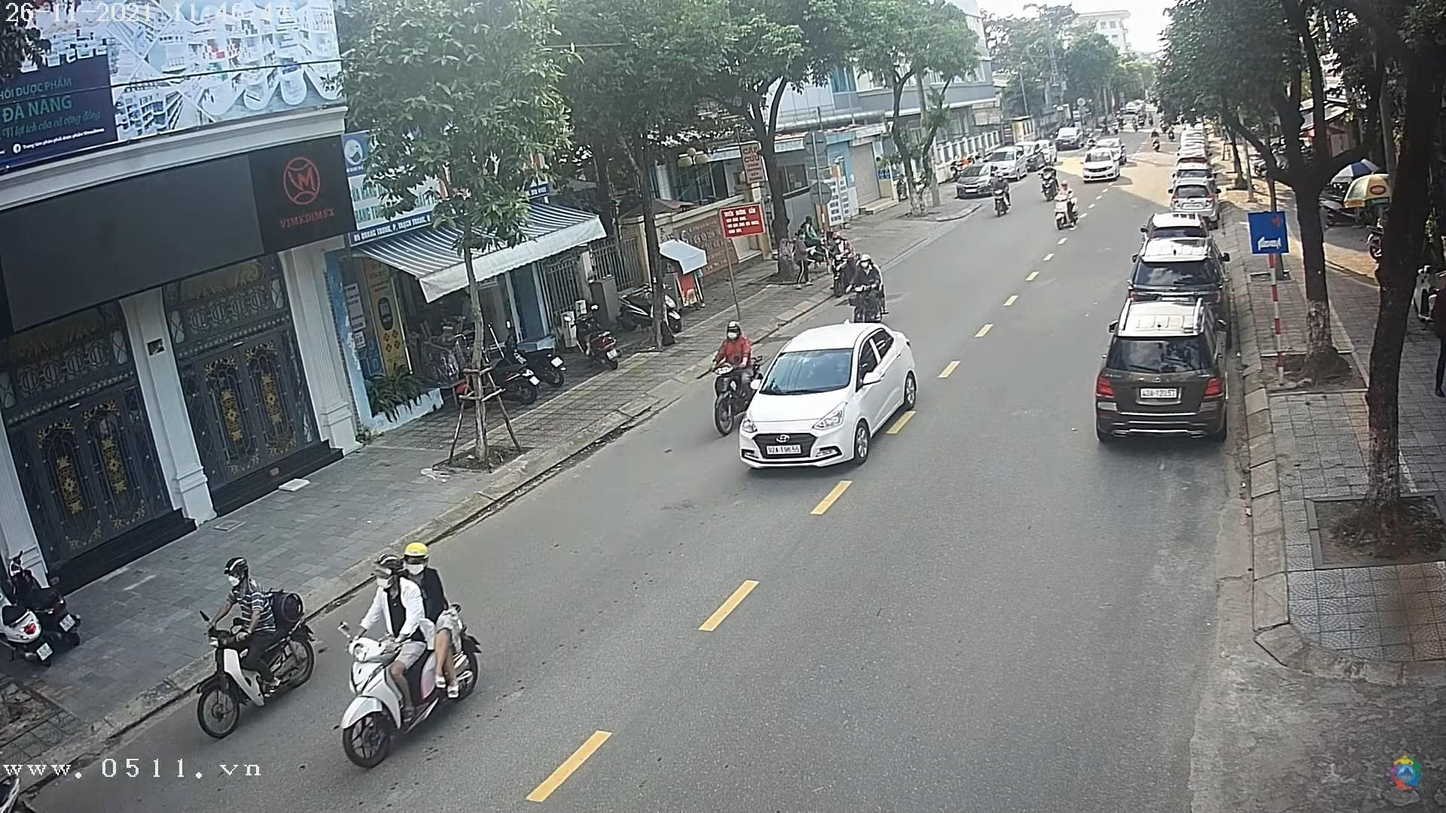car: (739, 322, 920, 472), (1097, 300, 1225, 443), (1133, 232, 1222, 303), (1081, 144, 1129, 182), (1170, 184, 1218, 215), (1057, 126, 1088, 150)
motorbike: (340, 627, 485, 774), (193, 623, 318, 744), (709, 362, 760, 437), (1053, 194, 1079, 235)
